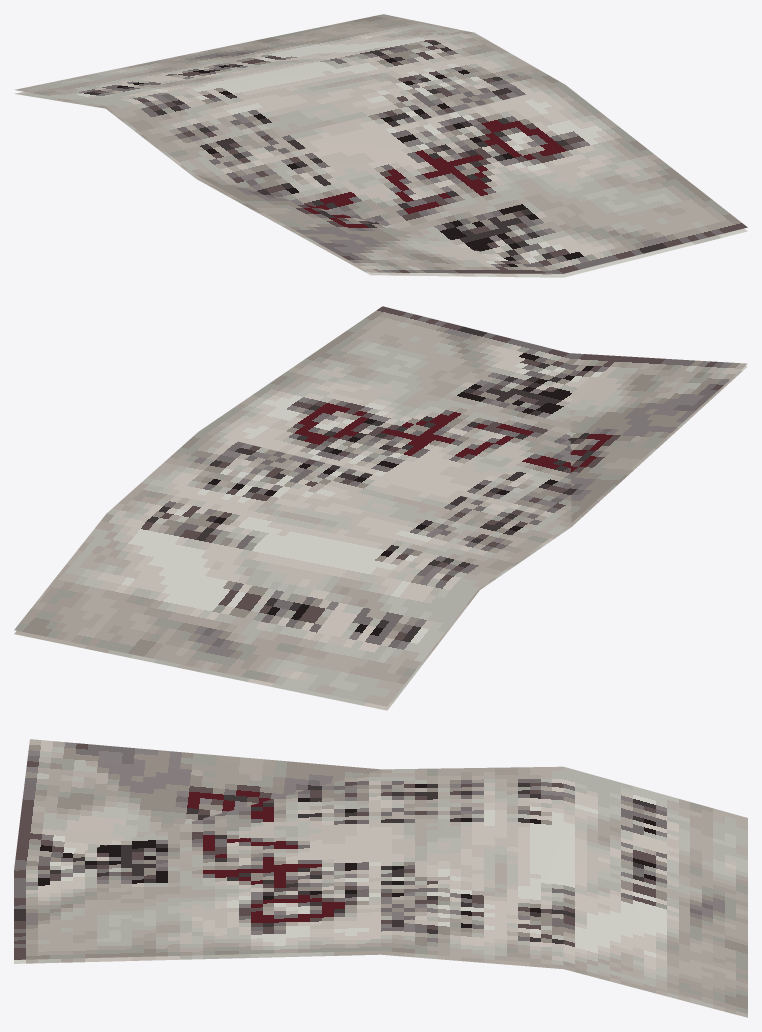
The model's file is reciept.glb.
3 renders of one model, top to bottom at view 1: azimuth 30°, elevation 25°; view 2: azimuth 150°, elevation 25°; view 3: azimuth 270°, elevation 25°, orthographic.
Visible parts, largest first — view 1: paper; view 2: paper; view 3: paper.
Boxes of the visible parts, left/top/right/bottom form: paper: left=14, top=14, right=747, bottom=277; paper: left=14, top=306, right=747, bottom=710; paper: left=14, top=739, right=747, bottom=1017.
Size of the model in its own units: 0.592 by 0.148 by 1.01.
1 material, 1 textured.
